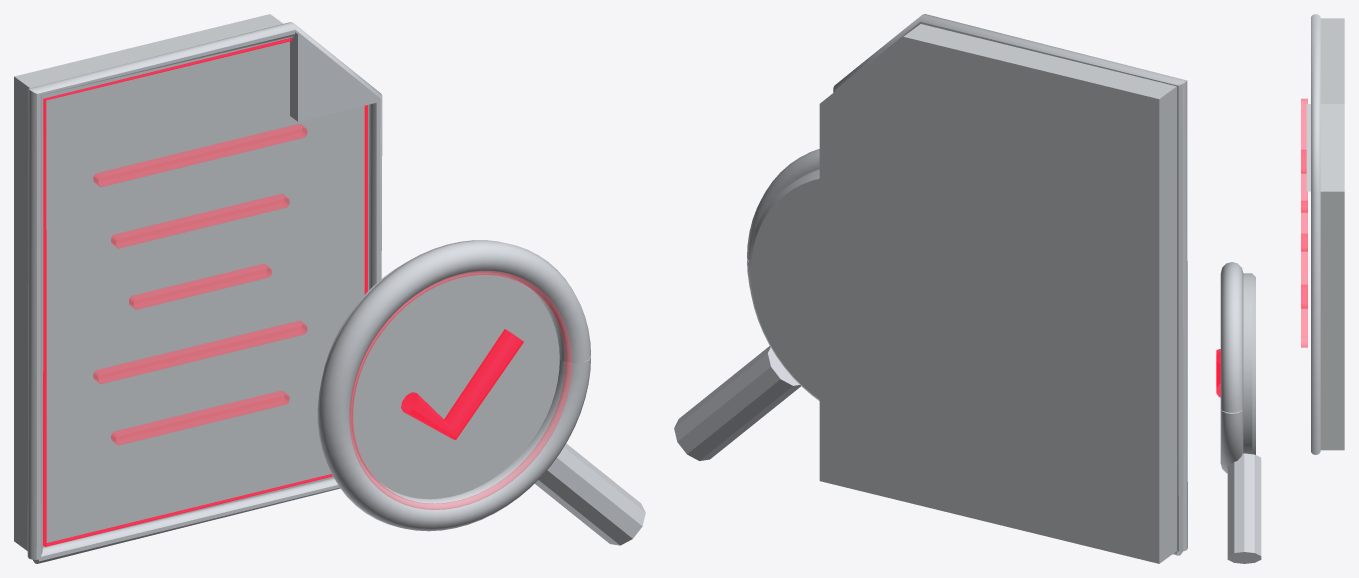
The model's file is 39-audit.glb.
The picture shows the model from 3 angles, left to right: view 1: azimuth 30°, elevation 25°; view 2: azimuth 150°, elevation 25°; view 3: azimuth 270°, elevation 25°; orthographic projection. The views are drawn at different scales.
Visible parts, largest first — view 1: BC clear optical glass, BC satin silver metal, BC ruby optical glass, BC neon red glass edge; view 2: BC clear optical glass, BC satin silver metal; view 3: BC satin silver metal, BC clear optical glass, BC ruby optical glass, BC neon red glass edge.
Boxes of the visible parts, box(x1,y1,x2,y2) form: BC clear optical glass: box(14, 14, 559, 550); BC satin silver metal: box(27, 22, 645, 563); BC ruby optical glass: box(93, 124, 571, 509); BC neon red glass edge: box(43, 37, 523, 546); BC clear optical glass: box(748, 24, 1176, 563); BC satin silver metal: box(674, 14, 1187, 555); BC satin silver metal: box(1220, 14, 1320, 563); BC clear optical glass: box(1243, 18, 1344, 454); BC ruby optical glass: box(1301, 98, 1307, 347); BC neon red glass edge: box(1216, 349, 1220, 397).
Bounding box in the file's own units: 2.15 × 2 × 0.6217.
